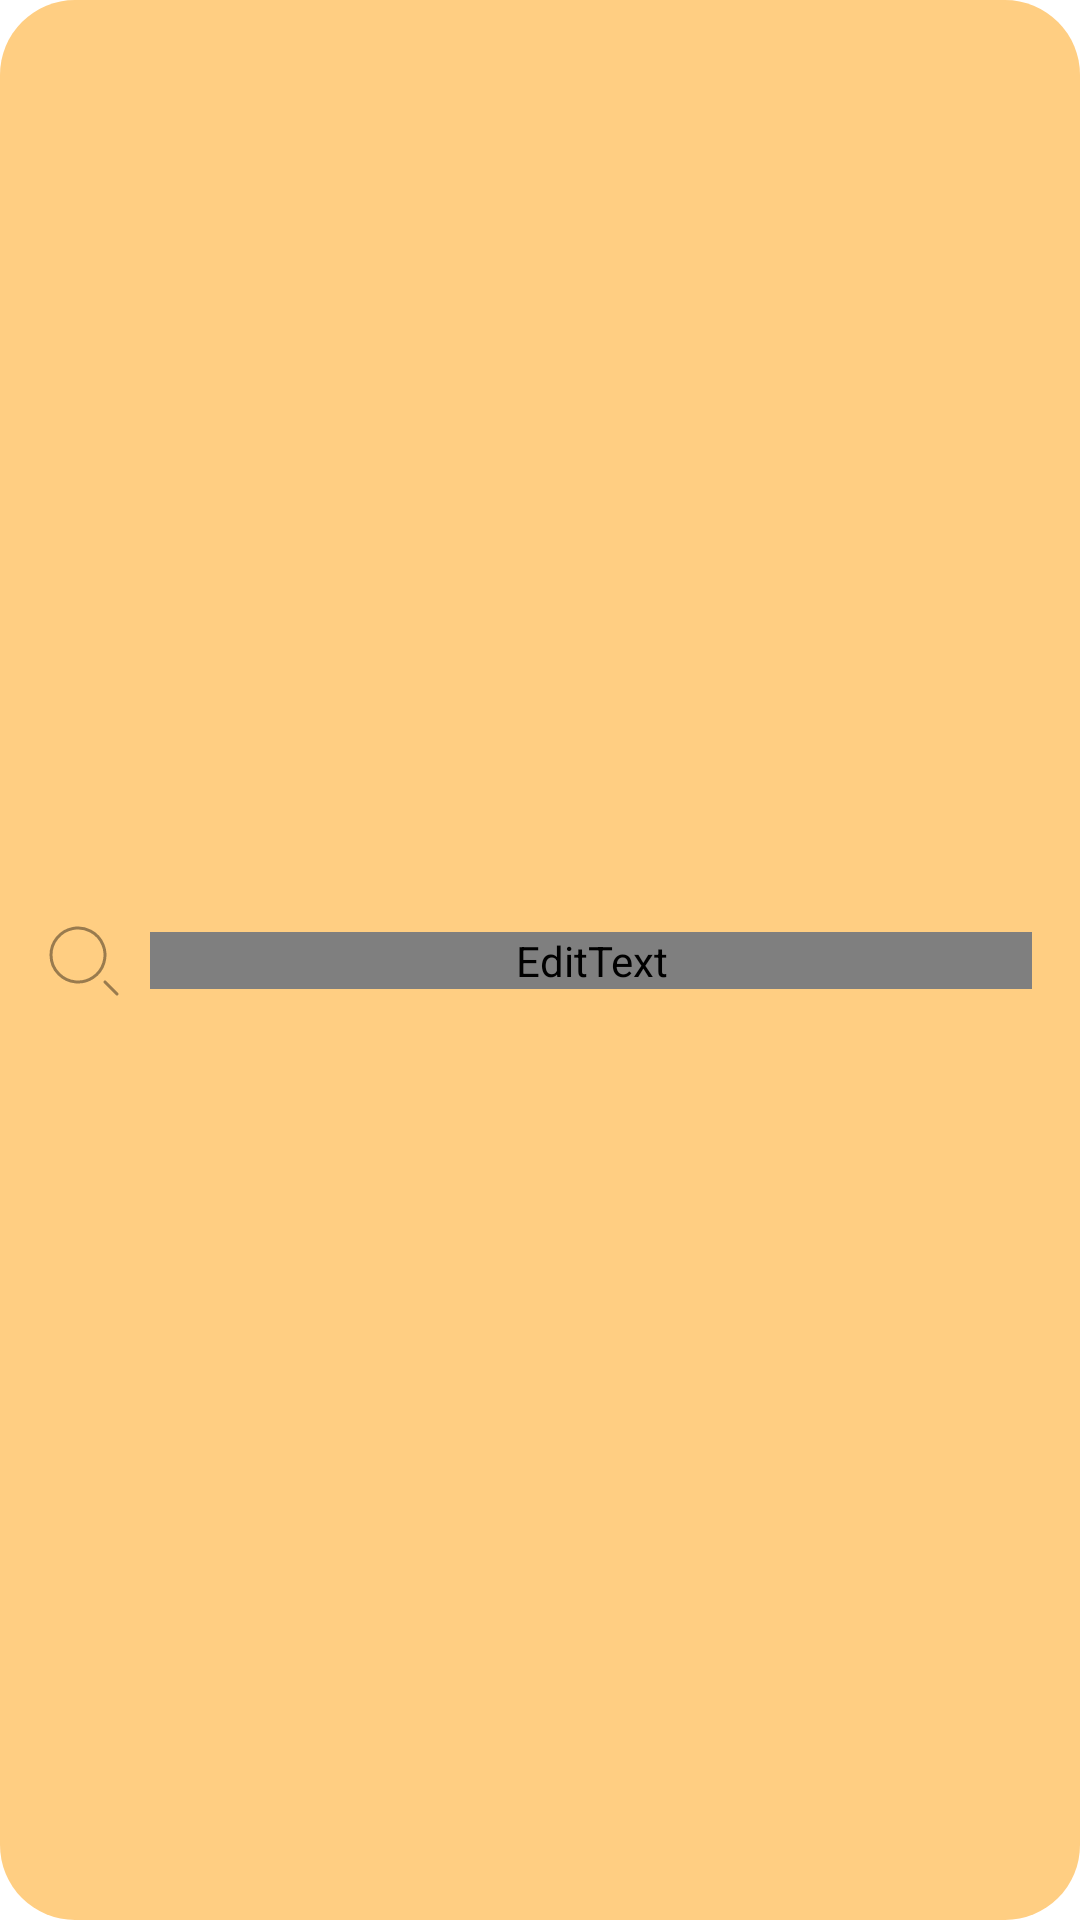

Icon bounding boxes for this 1080x1920 phone screenshot, format (x1, y1, x2, y2):
search: (49, 926, 119, 996)
